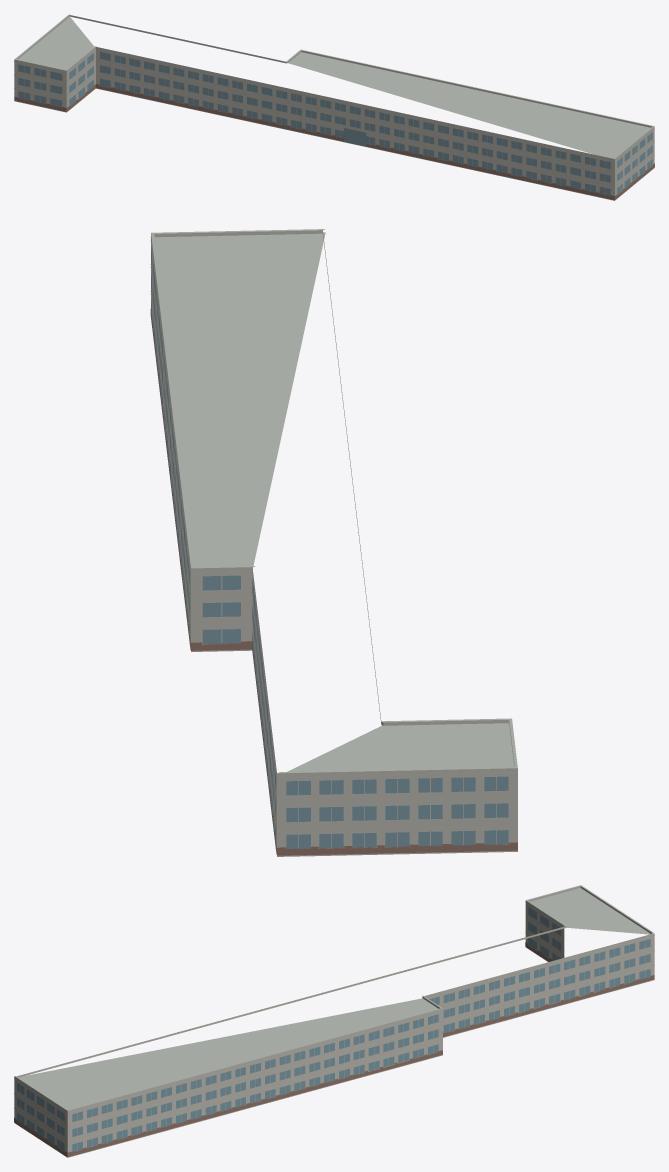
The model's file is public-7c50c0bf-b0fe-42eb-ad3d-a2a7aaad29ef.glb.
3 renders of one model, top to bottom at view 1: azimuth 30°, elevation 25°; view 2: azimuth 150°, elevation 25°; view 3: azimuth 270°, elevation 25°, orthographic. The views are drawn at different scales.
Visible parts, largest first — view 1: public-7c50c0bf-b0fe-42eb-ad3d-a2a7aaad29ef; view 2: public-7c50c0bf-b0fe-42eb-ad3d-a2a7aaad29ef; view 3: public-7c50c0bf-b0fe-42eb-ad3d-a2a7aaad29ef.
Part boxes in pixels (x1,y1,x2,y2): public-7c50c0bf-b0fe-42eb-ad3d-a2a7aaad29ef: [14, 14, 654, 200]; public-7c50c0bf-b0fe-42eb-ad3d-a2a7aaad29ef: [150, 229, 517, 856]; public-7c50c0bf-b0fe-42eb-ad3d-a2a7aaad29ef: [14, 885, 654, 1157].
Size of the model in its own units: 94.45 by 9.15 by 113.
